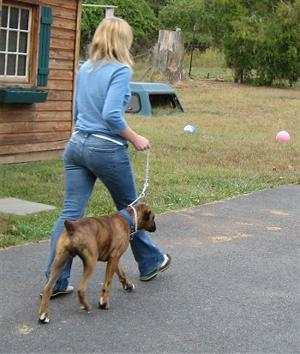person: (41, 16, 172, 293)
